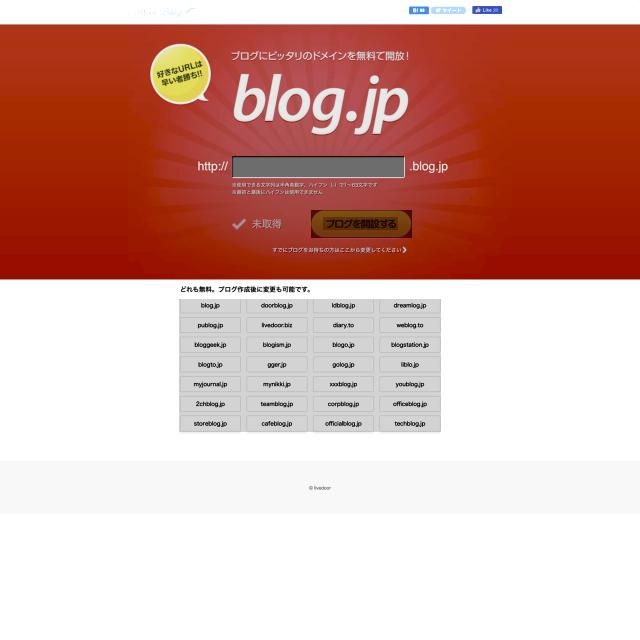CheckBox: (311, 210, 412, 238), (430, 6, 466, 15), (472, 6, 502, 14), (409, 6, 429, 15)
CheckedTextView: (232, 156, 404, 177)
bag: (0, 0, 639, 24)
card: (0, 24, 640, 280)
data feed: (323, 217, 398, 230)
date picker: (124, 2, 198, 20)
decoration: (179, 300, 441, 434)
